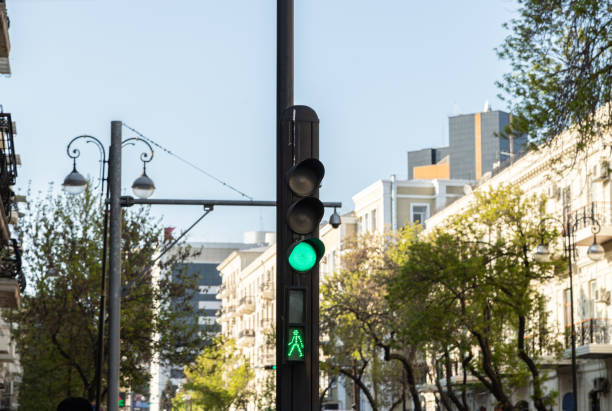trafficlight: (282, 156, 327, 273)
